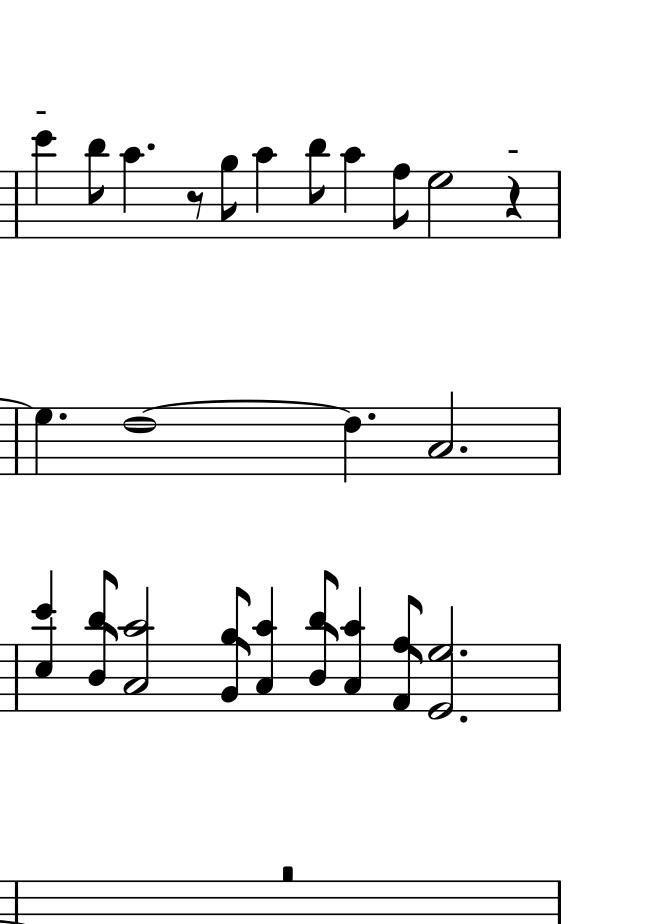1_6: (122, 407, 157, 476)
2_0_9: (427, 606, 456, 721)
2_3: (428, 391, 456, 475)
2_3_10: (121, 587, 151, 713)
2_7: (424, 169, 454, 240)
4_10: (121, 147, 149, 242), (252, 145, 277, 240), (341, 145, 363, 238)
4_12: (32, 127, 59, 242)
4_3_10: (255, 587, 277, 712), (342, 587, 364, 712)
4_5_12: (31, 571, 55, 712)
4_6: (342, 405, 361, 486)
4_7: (34, 407, 53, 476)
8_11: (306, 137, 329, 240), (85, 135, 107, 240)
8_1_8: (392, 593, 424, 713)
8_2_9: (221, 585, 252, 715)
8_4_11: (85, 570, 118, 712), (307, 569, 340, 711)
8_8: (389, 161, 412, 242)
8_9: (218, 155, 243, 241)
Rests4: (504, 175, 523, 218)
Rests8: (185, 187, 209, 219)
Single_barline: (8, 645, 24, 712), (8, 408, 24, 474), (551, 408, 567, 474), (8, 170, 23, 239), (551, 170, 566, 238), (551, 645, 566, 710), (8, 882, 24, 924), (551, 881, 566, 924), (457, 645, 469, 659)
Slur: (140, 399, 349, 416)
dot: (144, 141, 157, 154), (365, 409, 377, 423), (57, 410, 68, 422), (458, 713, 469, 725), (458, 443, 468, 455)
